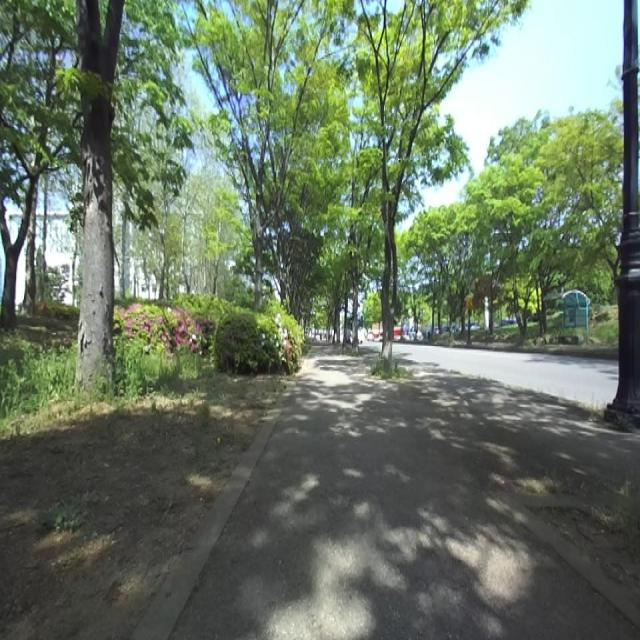sidewalk: (173, 345, 640, 639)
